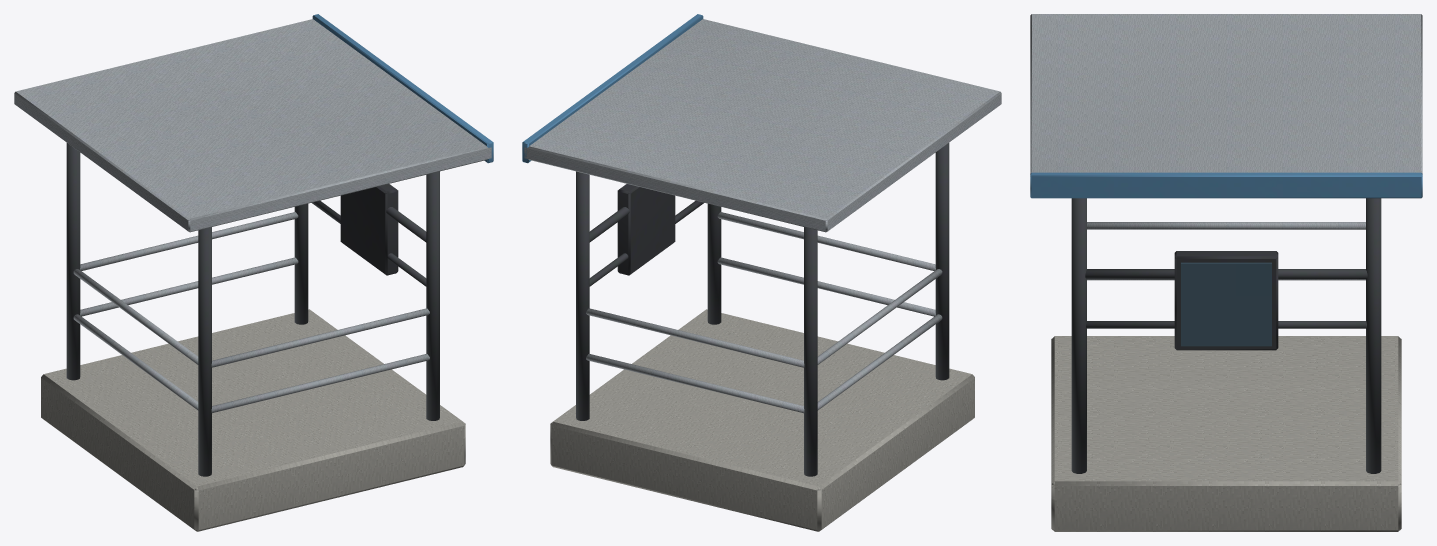
Rendered from marshal-post_high.glb.
3 views of the same model, side by side, from view 1: azimuth 30°, elevation 25°; view 2: azimuth 150°, elevation 25°; view 3: azimuth 270°, elevation 25° (orthographic). The views are drawn at different scales.
Visible parts, largest first — view 1: galvanised, concrete, dark-steel, rubber, paint-band; view 2: galvanised, concrete, dark-steel, rubber, paint-band; view 3: galvanised, concrete, dark-steel, paint-band, glazing, rubber.
Boxes of the visible parts, left/top/right/bottom form: galvanised: left=14, top=19, right=491, bottom=413; concrete: left=41, top=309, right=465, bottom=531; dark-steel: left=66, top=143, right=439, bottom=476; rubber: left=340, top=184, right=398, bottom=275; paint-band: left=312, top=14, right=493, bottom=163; galvanised: left=524, top=19, right=1001, bottom=413; concrete: left=550, top=309, right=974, bottom=531; dark-steel: left=576, top=143, right=949, bottom=476; rubber: left=617, top=184, right=675, bottom=275; paint-band: left=522, top=14, right=703, bottom=163; galvanised: left=1030, top=14, right=1422, bottom=280; concrete: left=1051, top=336, right=1401, bottom=531; dark-steel: left=1071, top=198, right=1381, bottom=473; paint-band: left=1030, top=172, right=1422, bottom=198; glazing: left=1181, top=262, right=1271, bottom=346; rubber: left=1174, top=251, right=1278, bottom=350.
Size of the model in its own units: 2.81 by 2.89 by 2.8.
6 materials, 5 textured.
